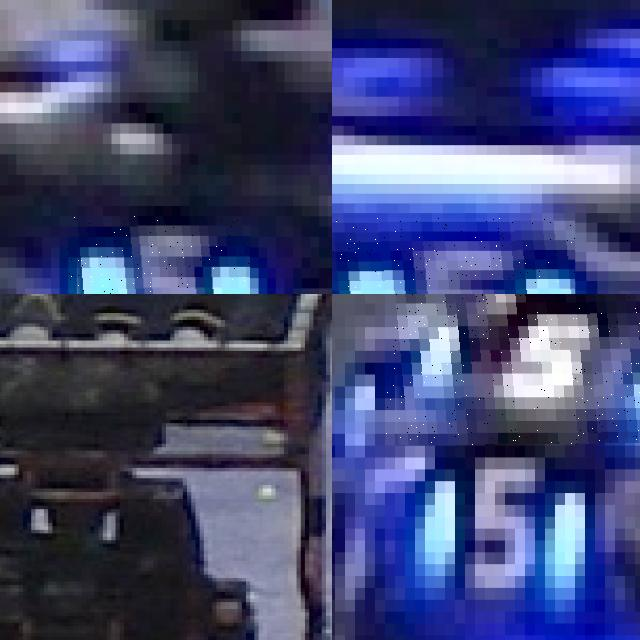B5: (370, 446, 600, 624), (385, 294, 640, 445), (332, 217, 575, 294), (68, 216, 249, 294)
